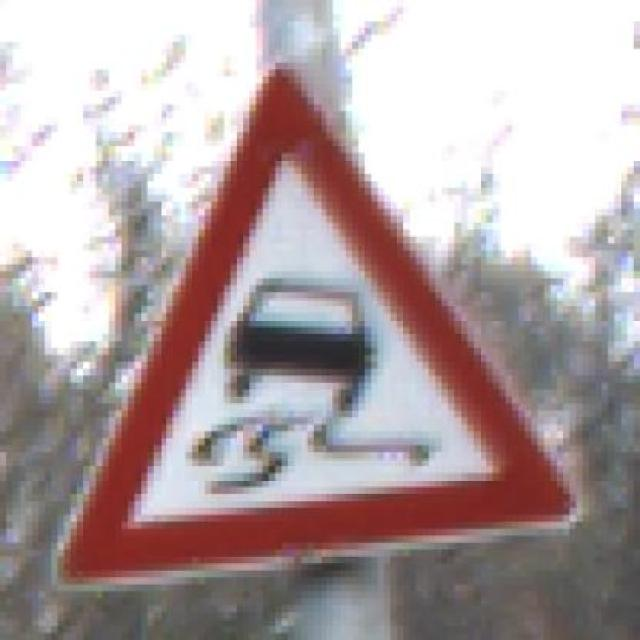Slippery Road Ahead: (51, 56, 595, 584)
